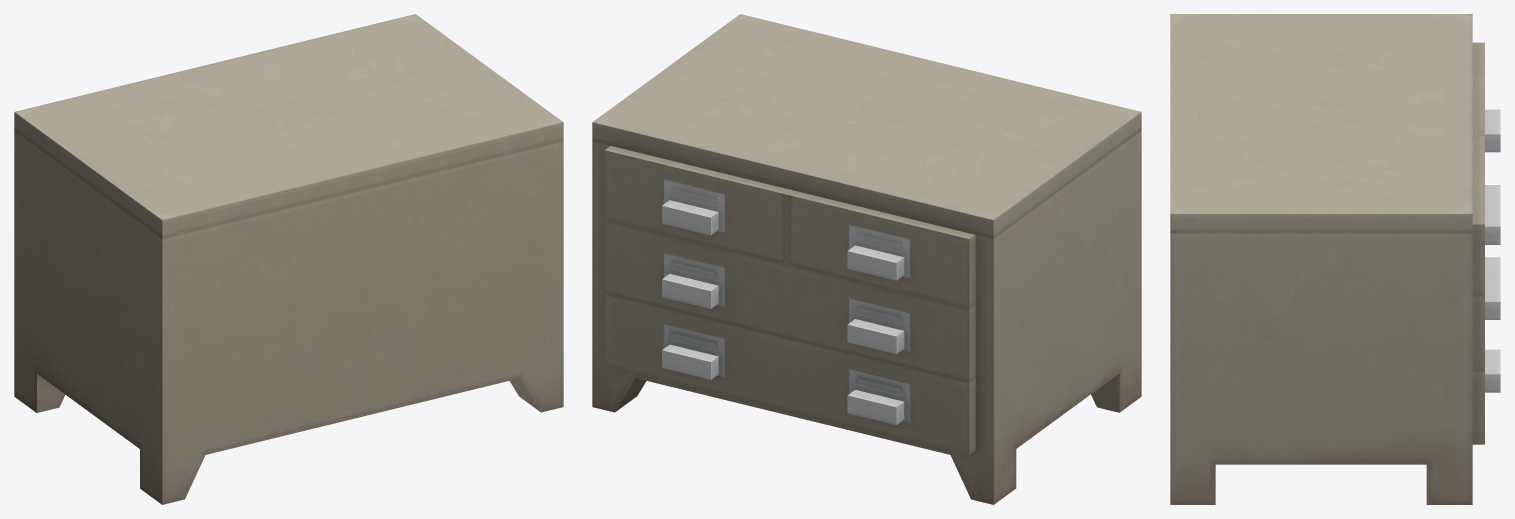
Rendered from P_Cabinet_009_S1_M03.obj.
3 views of the same model, side by side, from view 1: azimuth 30°, elevation 25°; view 2: azimuth 150°, elevation 25°; view 3: azimuth 270°, elevation 25° (orthographic). The views are drawn at different scales.
Bounding box in the file's own units: 1.48 × 0.9998 × 1.03.
1 material, 1 textured.
